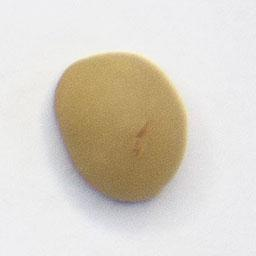defect: (46, 45, 195, 209)
